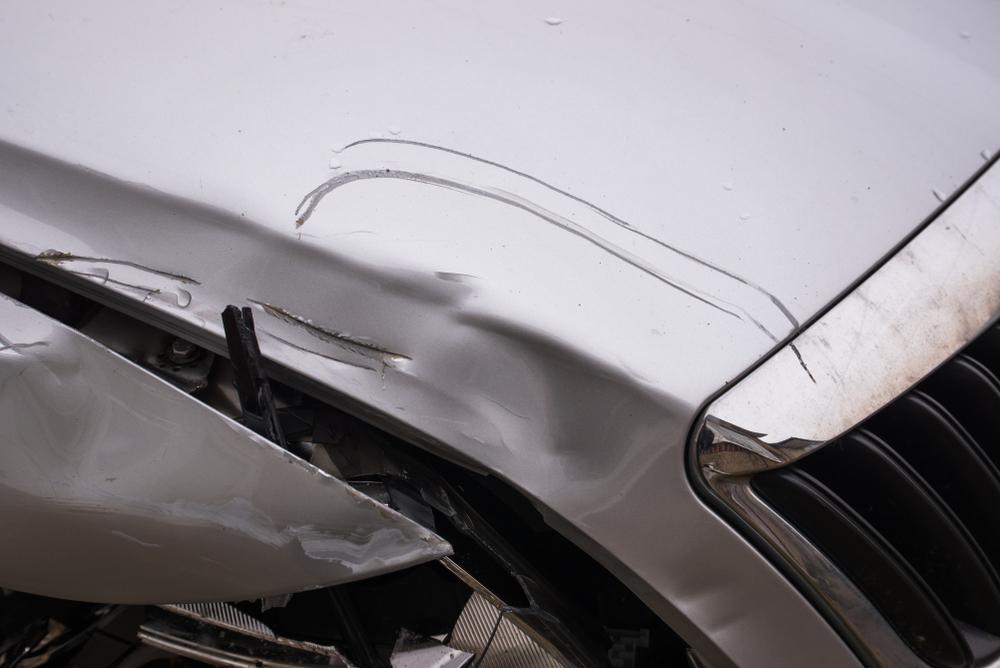dent: (252, 238, 693, 522), (0, 329, 212, 497), (671, 575, 748, 653)
scratch: (287, 136, 803, 346), (146, 496, 450, 573), (33, 246, 206, 302)
